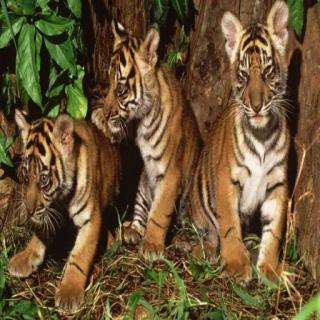Tiger: (211, 1, 313, 287), (96, 7, 212, 227), (0, 88, 112, 294)
